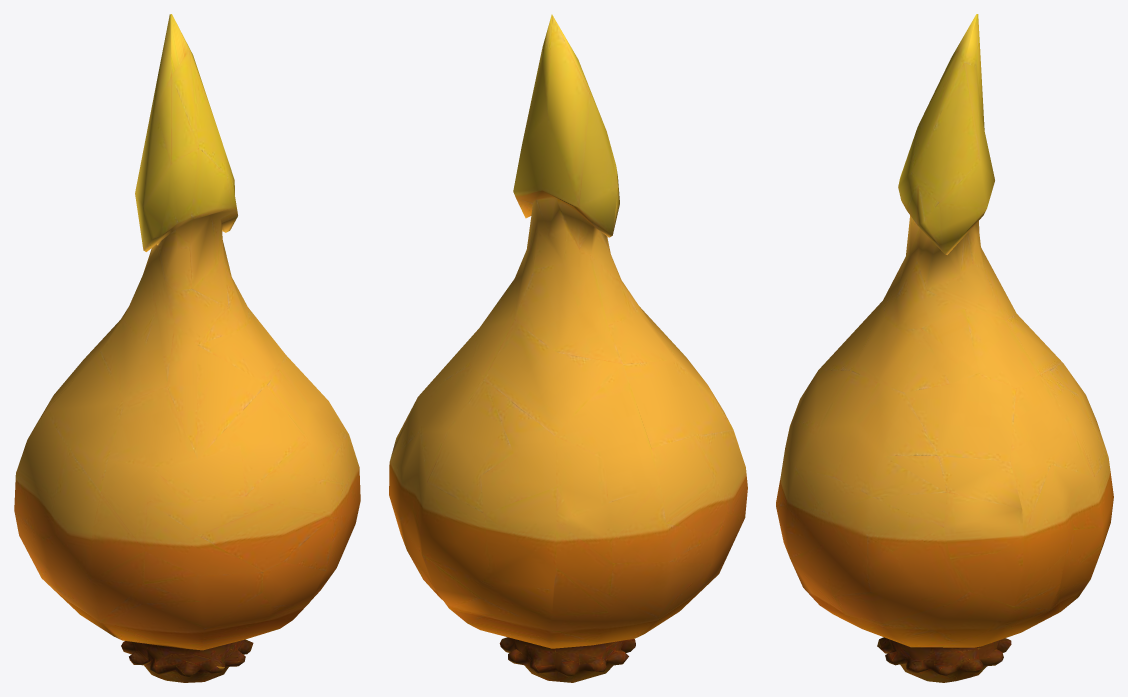
File: onion.glb
3 renders of one model, left to right at view 1: azimuth 30°, elevation 25°; view 2: azimuth 150°, elevation 25°; view 3: azimuth 270°, elevation 25°, orthographic. The views are drawn at different scales.
Bounding box in the file's own units: 0.8833 × 1.91 × 0.8819.
1 material, 1 textured.
